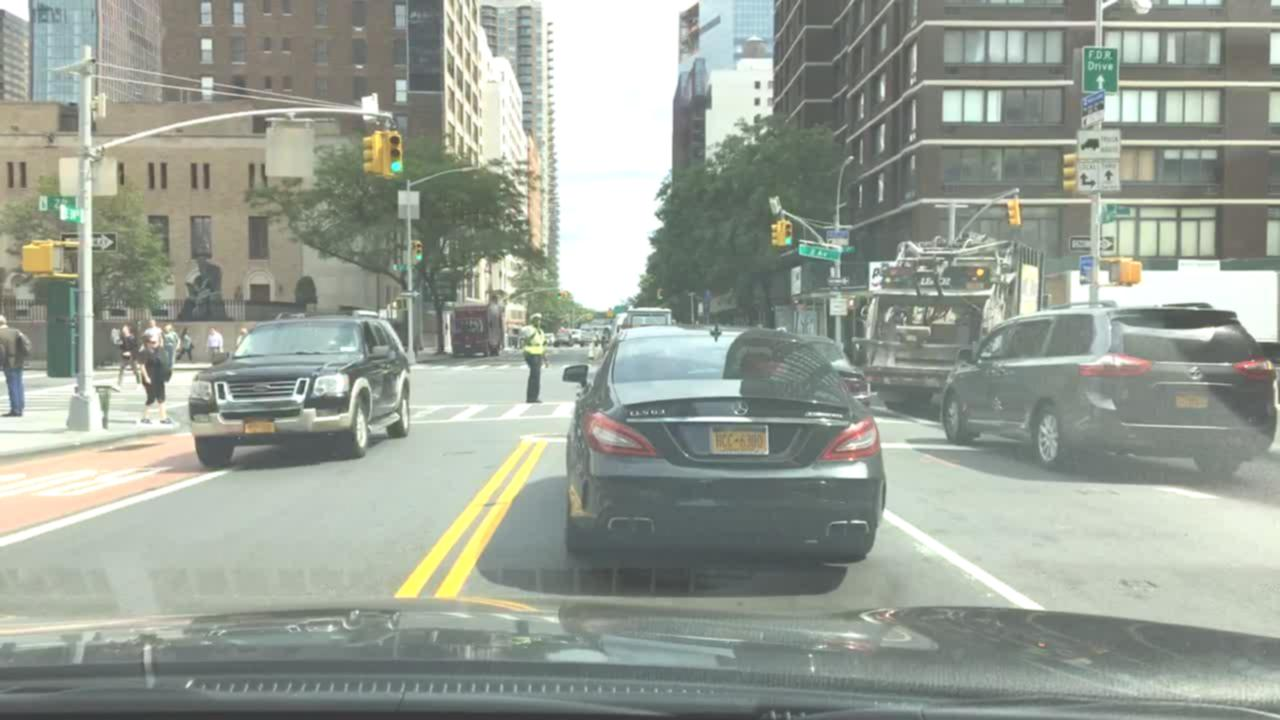Mercedes: (726, 397, 758, 419)
